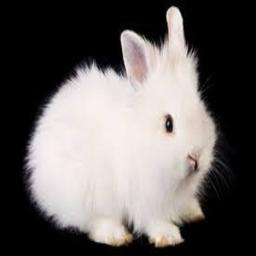rabbit: (26, 5, 218, 247)
